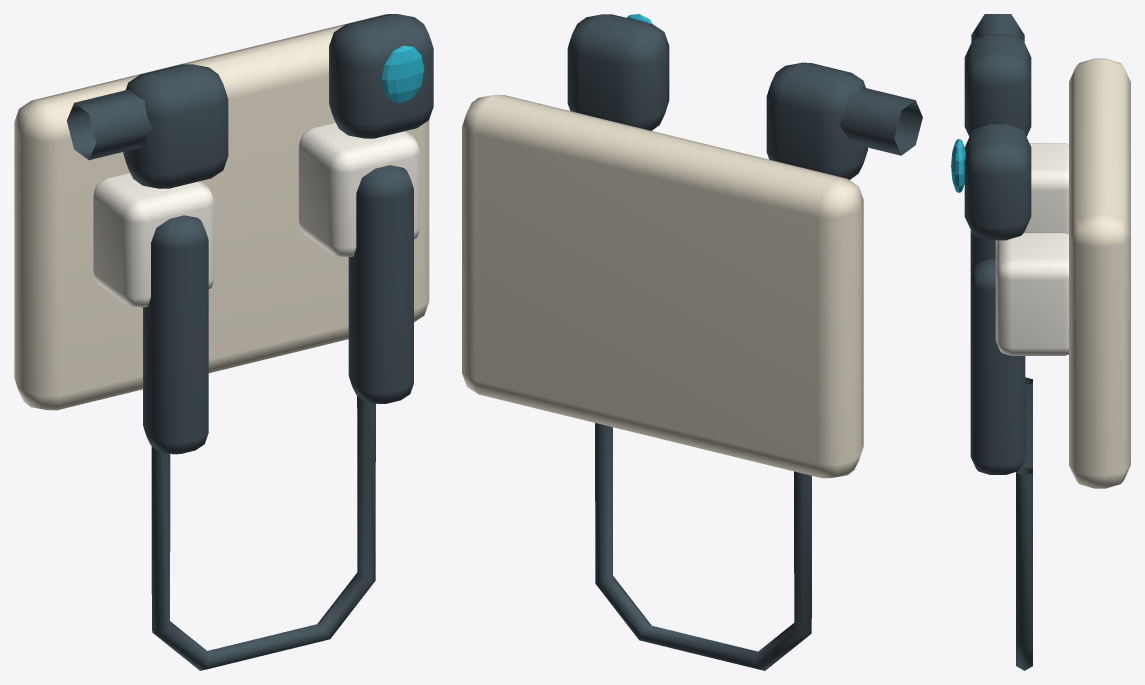
The model's file is Clinical_Wall_Exam_Set.glb.
3 renders of one model, left to right at view 1: azimuth 30°, elevation 25°; view 2: azimuth 150°, elevation 25°; view 3: azimuth 270°, elevation 25°, orthographic. The views are drawn at different scales.
Visible parts, largest first — view 1: Clinical_Wall_Exam_Set_cream, Clinical_Wall_Exam_Set_dark, Clinical_Wall_Exam_Set_paper, Clinical_Wall_Exam_Set_blue; view 2: Clinical_Wall_Exam_Set_cream, Clinical_Wall_Exam_Set_dark; view 3: Clinical_Wall_Exam_Set_dark, Clinical_Wall_Exam_Set_cream, Clinical_Wall_Exam_Set_paper, Clinical_Wall_Exam_Set_blue.
Part boxes in pixels (box(x1,y1,x2,y2)): Clinical_Wall_Exam_Set_cream: box(14, 14, 429, 410); Clinical_Wall_Exam_Set_dark: box(66, 14, 433, 670); Clinical_Wall_Exam_Set_paper: box(93, 122, 420, 307); Clinical_Wall_Exam_Set_blue: box(381, 45, 424, 102); Clinical_Wall_Exam_Set_cream: box(462, 94, 863, 478); Clinical_Wall_Exam_Set_dark: box(567, 14, 922, 670); Clinical_Wall_Exam_Set_dark: box(964, 14, 1032, 670); Clinical_Wall_Exam_Set_cream: box(1069, 58, 1130, 488); Clinical_Wall_Exam_Set_paper: box(995, 143, 1068, 355); Clinical_Wall_Exam_Set_blue: box(951, 139, 965, 192).
Bounding box in the file's own units: 0.47 × 0.6902 × 0.203.
